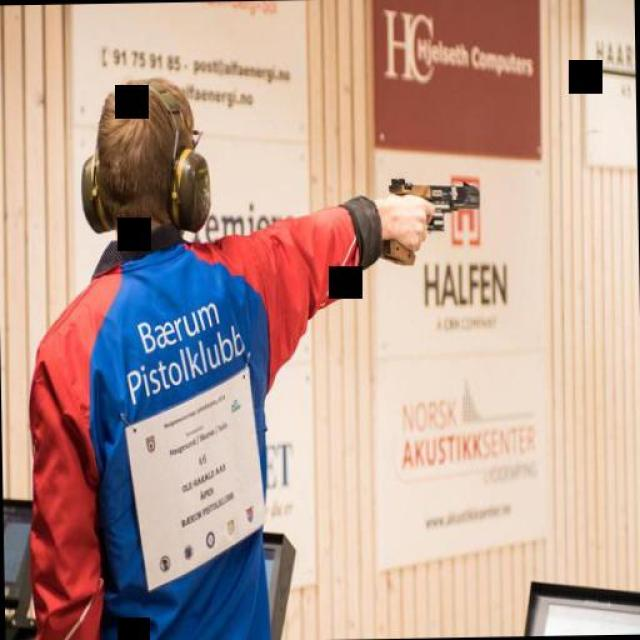gun: (380, 170, 481, 268)
